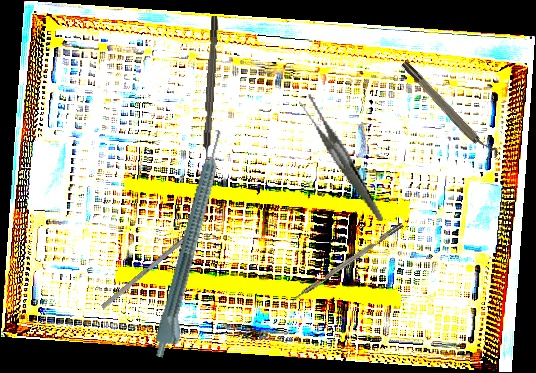Chopper: (286, 222, 408, 310)
Dressing Forceps: (297, 83, 384, 234)
Fixation Ring: (399, 54, 501, 166)
Handpiece: (151, 128, 237, 362)
Hook Surgical: (200, 15, 220, 174)
Pusher: (100, 215, 212, 310)
